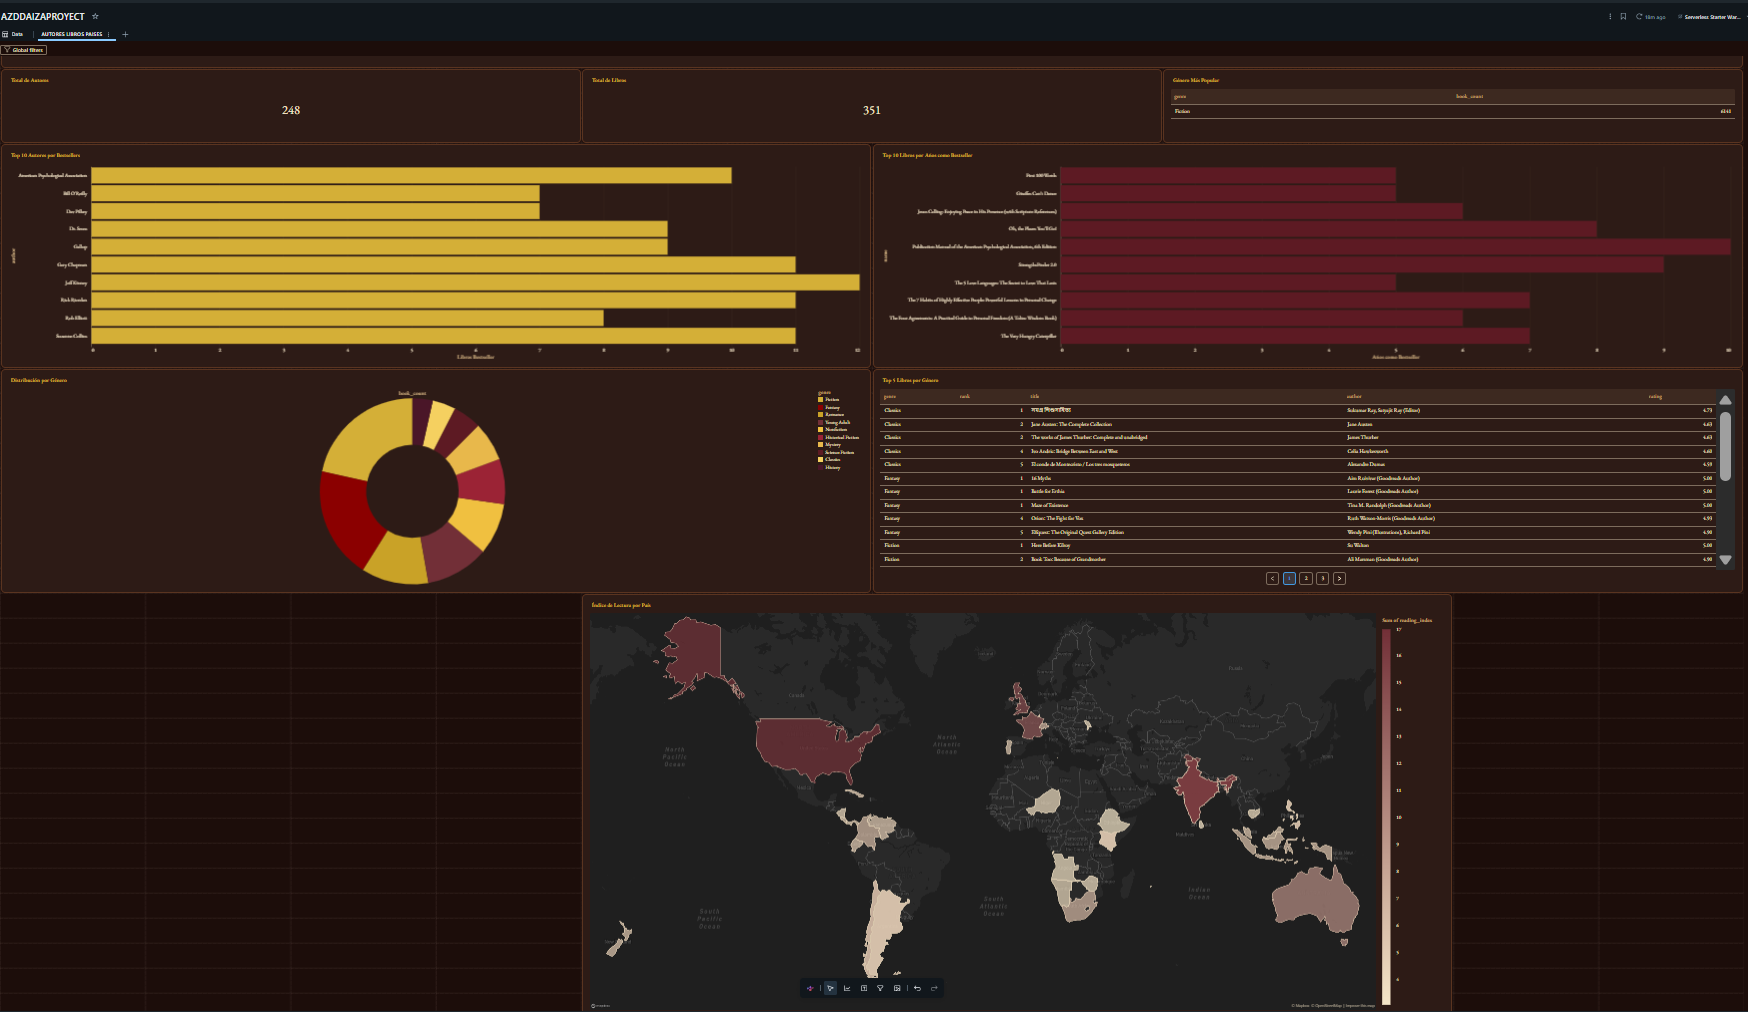

Layout of this report page (visuals, bound fields, positions):
{"tool":"powerbi","page":{"name":"Página 1","canvas":[1920,1080],"ordinal":0},"visuals":[{"type":"advanceCardE03760C5AB684758B56AA29F9E6C257B","title":"TOTAL DE AUTORES","fields":{"mainMeasure":["top_authors.Total Autores Bestseller"]},"box":[106,60,478,106],"z":0},{"type":"advanceCardE03760C5AB684758B56AA29F9E6C257B","title":"TOTAL DE LIBROS","fields":{"mainMeasure":["top_books.Total Libros Bestseller"]},"box":[696,60,520,106],"z":1000},{"type":"advanceCardE03760C5AB684758B56AA29F9E6C257B","title":"GENERO MÁS POPULAR","fields":{"mainMeasure":["genre_distribution.Genero Mas Popular"]},"box":[1352,60,478,106],"z":2000},{"type":"clusteredBarChart","title":"TOP 10 AUTORES POR TOTAL DE LIBROS","fields":{"Category":["top_authors.author"],"Y":["top_books.Total Libros Bestseller"]},"box":[50,220,882,384],"z":3000},{"type":"donutChart","title":"DISTRIBUCIÓN DE GÉNEROS","fields":{"Category":["genre_distribution.genre"],"Y":["Sum(genre_distribution.book_count)"]},"box":[1352,220,520,384],"z":4000},{"type":"clusteredBarChart","title":"TOP LIBROS MAS VENDIDOS","fields":{"Category":["top_books.name"],"Y":["Sum(top_books.years_as_bestseller)"]},"box":[960,204,370,400],"z":5000},{"type":"map","title":"TOP 10 PAÍSES QUE MAS LEEN","fields":{"Category":["country_reading.country"],"Size":["CountNonNull(country_reading.country)"]},"box":[1244,650,628,368],"z":6000},{"type":"pivotTable","title":"TOP 5 LIBROS POR GÉNERO","fields":{"Rows":["top_books_by_genre.genre","top_books_by_genre.rank","top_books_by_genre.title"],"Values":["Min(top_books_by_genre.author)","Sum(top_books_by_genre.rating)"]},"box":[50,650,882,368],"z":6001}]}

Visuals, with their boxes on the page's 1920x1080 design canvas (x1, y1, x2, y2). These are canvas units, not pixel positions in the 1748x1012 screenshot, which may show the page scaled, cropped or inside an application window:
"TOTAL DE AUTORES" advanceCardE03760C5AB684758B56AA29F9E6C257B: x1=106 y1=60 x2=584 y2=166
"TOTAL DE LIBROS" advanceCardE03760C5AB684758B56AA29F9E6C257B: x1=696 y1=60 x2=1216 y2=166
"GENERO MÁS POPULAR" advanceCardE03760C5AB684758B56AA29F9E6C257B: x1=1352 y1=60 x2=1830 y2=166
"TOP 10 AUTORES POR TOTAL DE LIBROS" clusteredBarChart: x1=50 y1=220 x2=932 y2=604
"DISTRIBUCIÓN DE GÉNEROS" donutChart: x1=1352 y1=220 x2=1872 y2=604
"TOP LIBROS MAS VENDIDOS" clusteredBarChart: x1=960 y1=204 x2=1330 y2=604
"TOP 10 PAÍSES QUE MAS LEEN" map: x1=1244 y1=650 x2=1872 y2=1018
"TOP 5 LIBROS POR GÉNERO" pivotTable: x1=50 y1=650 x2=932 y2=1018
